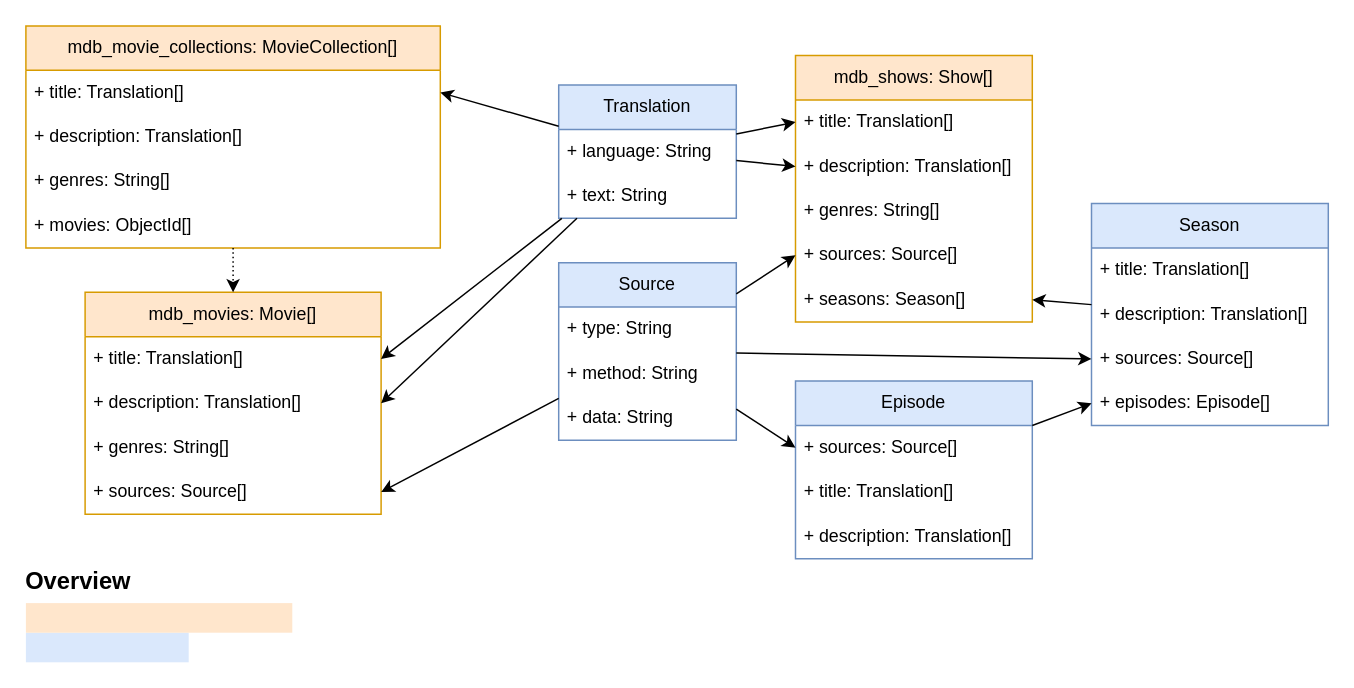
Some shapes in this 1354 by 688 pixel diagram are drawn without their labels. Here are the shapes that lost their labels. From the top down, the centre of each, then its label:
At [158,617]: "Orange: MongoDB Collection".
At [106,647]: "Blue: Embedded".
